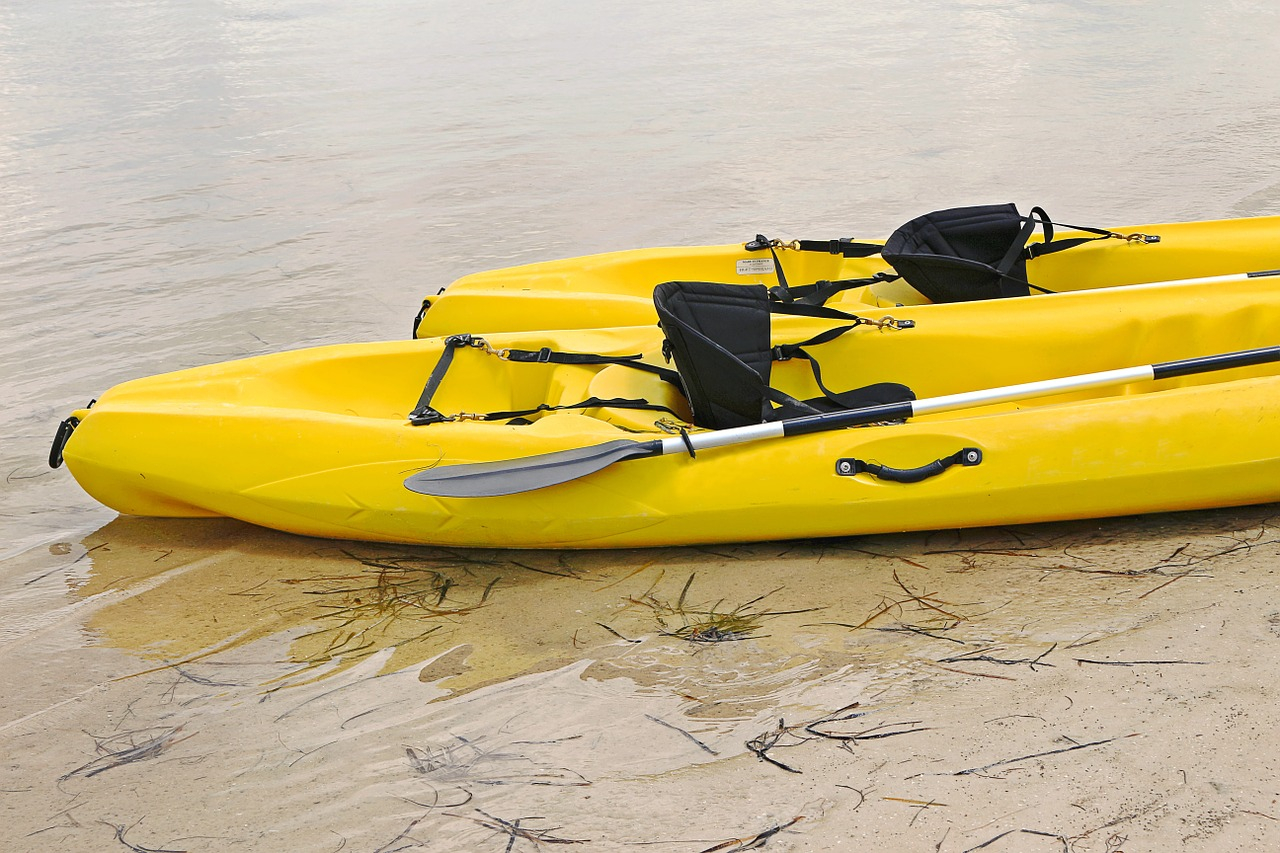kayak: (66, 267, 1280, 566)
